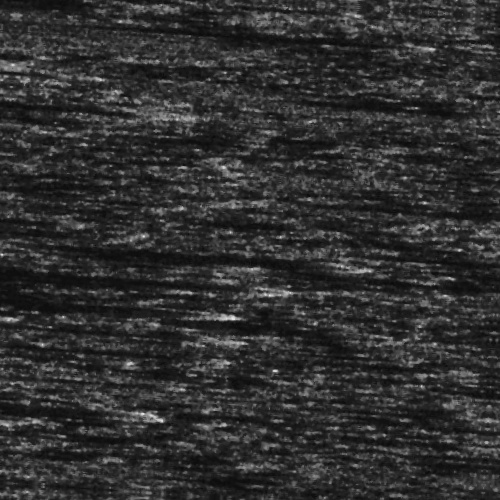object: (103, 110, 208, 129), (436, 184, 500, 213), (217, 280, 322, 293), (119, 416, 192, 429), (298, 253, 381, 264), (456, 89, 500, 108), (368, 29, 431, 38), (443, 350, 496, 359), (200, 313, 253, 318), (0, 329, 41, 334), (206, 337, 247, 342), (216, 357, 257, 362), (157, 388, 198, 391)
shadow: (352, 184, 500, 213), (0, 280, 270, 293), (0, 110, 155, 129), (112, 253, 339, 264), (122, 29, 399, 38), (0, 416, 155, 429), (414, 89, 500, 108), (299, 350, 469, 359), (363, 240, 500, 251), (0, 313, 226, 318), (401, 155, 500, 166), (360, 268, 500, 275), (38, 337, 227, 342), (49, 357, 236, 362), (426, 138, 500, 147), (436, 434, 500, 443), (33, 388, 177, 391), (444, 75, 500, 82)
